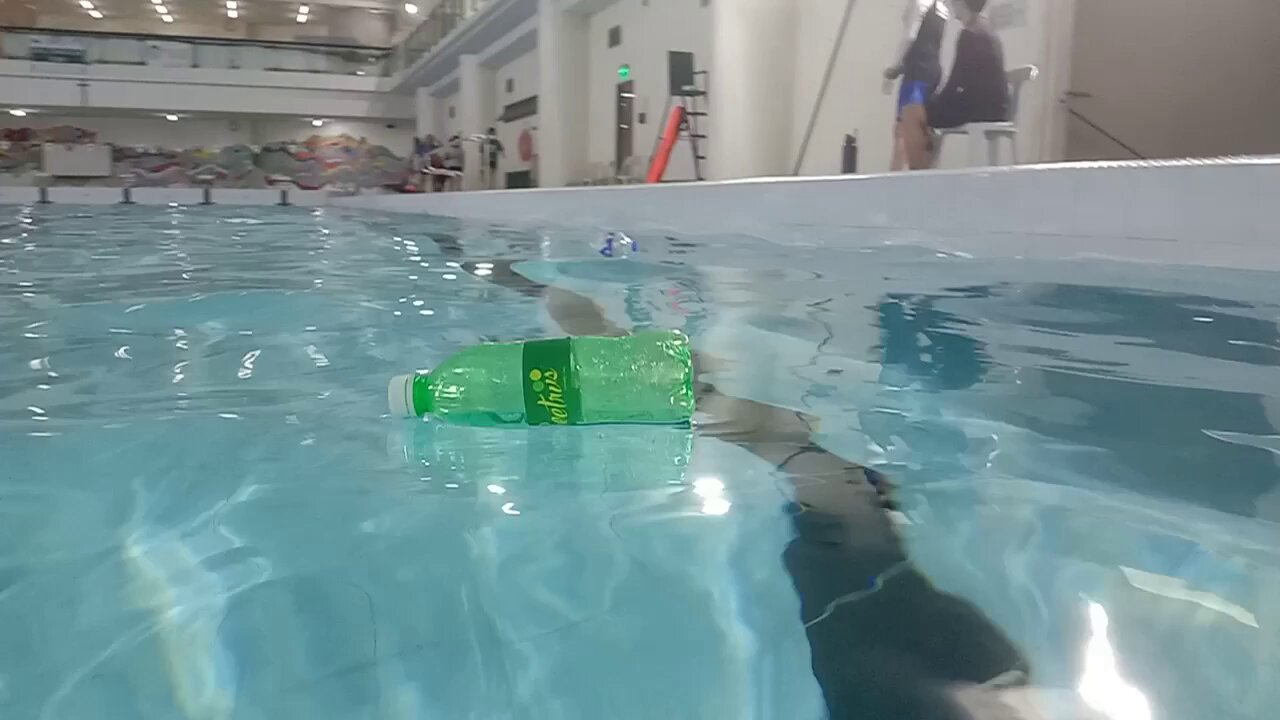plastic_bottle: (384, 326, 697, 428), (540, 229, 640, 260)
